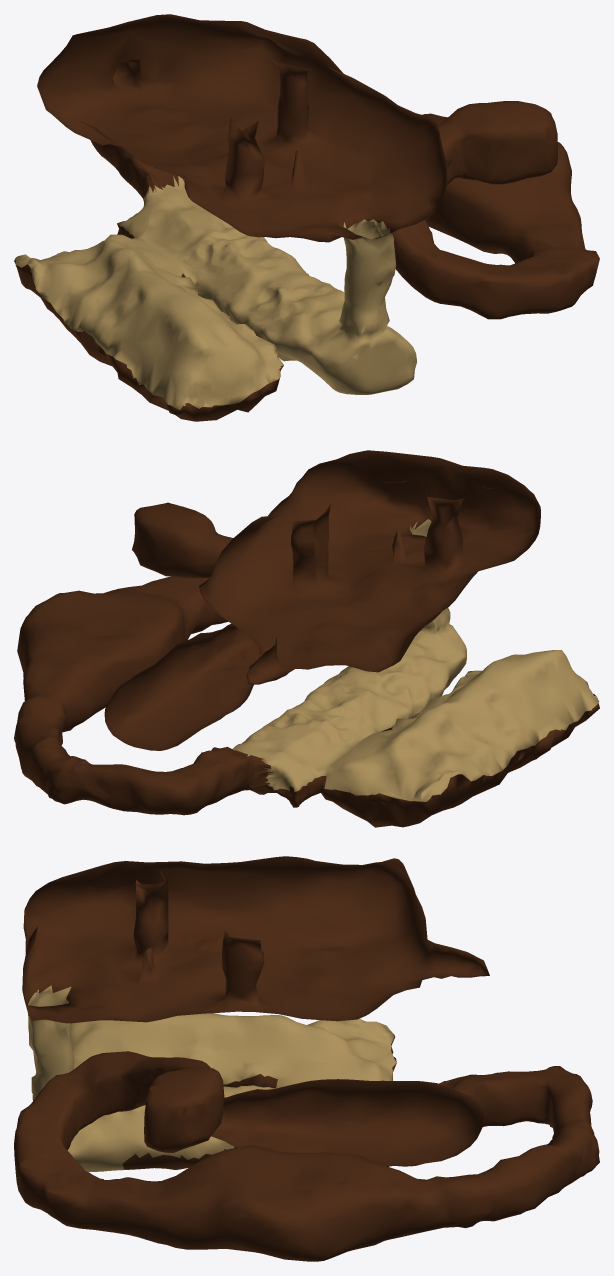
The model's file is Вход.fbx.
3 views of the same model, one above another, from view 1: azimuth 30°, elevation 25°; view 2: azimuth 150°, elevation 25°; view 3: azimuth 270°, elevation 25° (orthographic). The views are drawn at different scales.
Parts seen in each view (by area): view 1: Плоскость; view 2: Плоскость; view 3: Плоскость.
Boxes of the visible parts, x1,y1,x2,y2 form: Плоскость: [14, 14, 599, 421]; Плоскость: [14, 450, 599, 827]; Плоскость: [14, 856, 599, 1261].
Size of the model in its own units: 442924 by 226735 by 462803.
